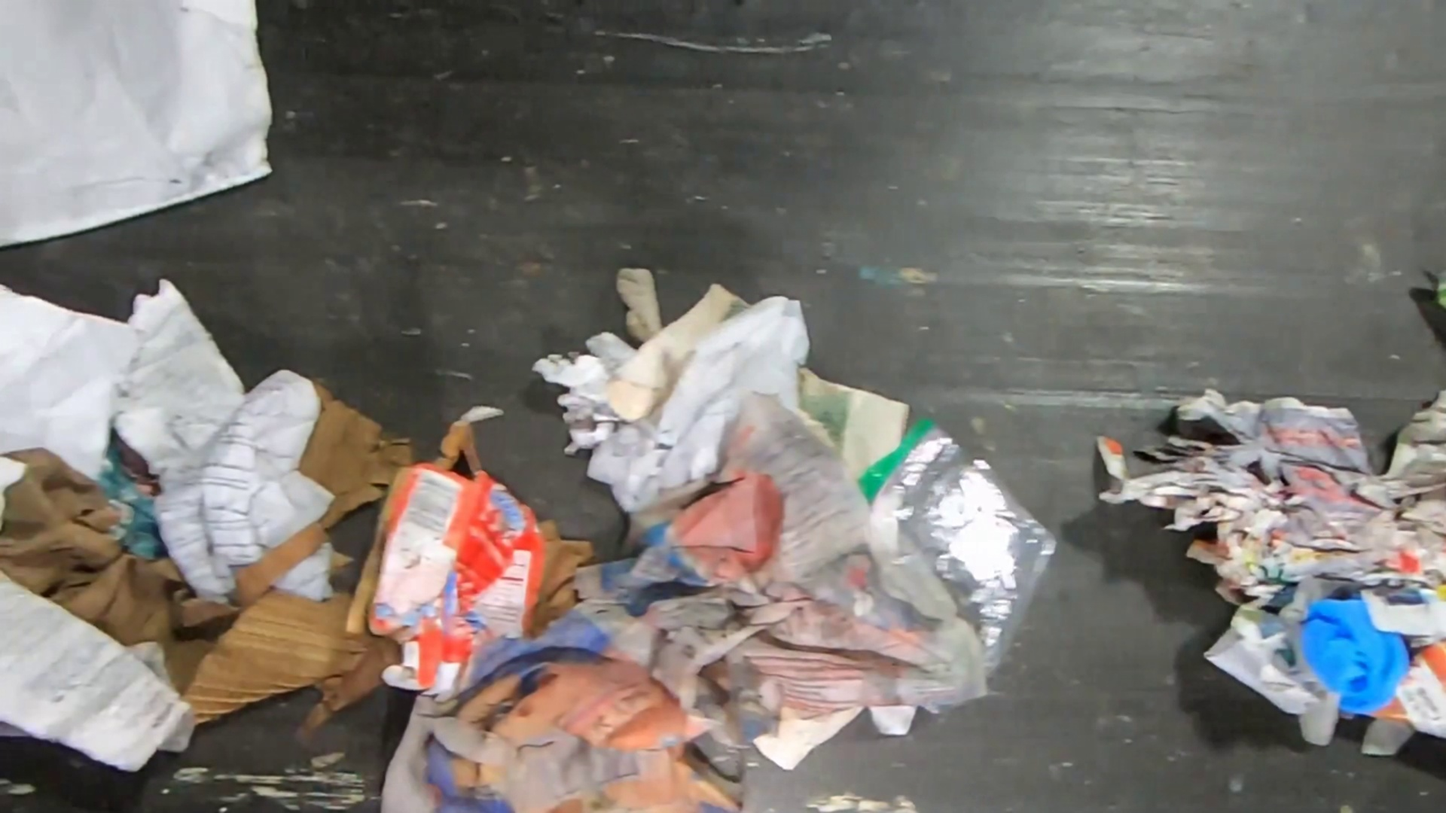cardboard: (0, 446, 243, 694), (338, 419, 549, 700), (179, 520, 400, 744), (292, 378, 415, 530), (539, 518, 598, 633), (1425, 263, 1446, 319)
plastic: (854, 413, 1058, 685), (918, 698, 976, 722)
